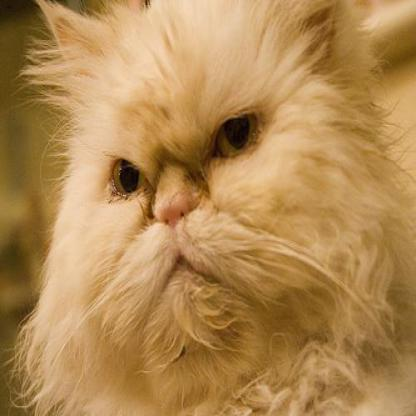cat: (30, 0, 415, 415)
